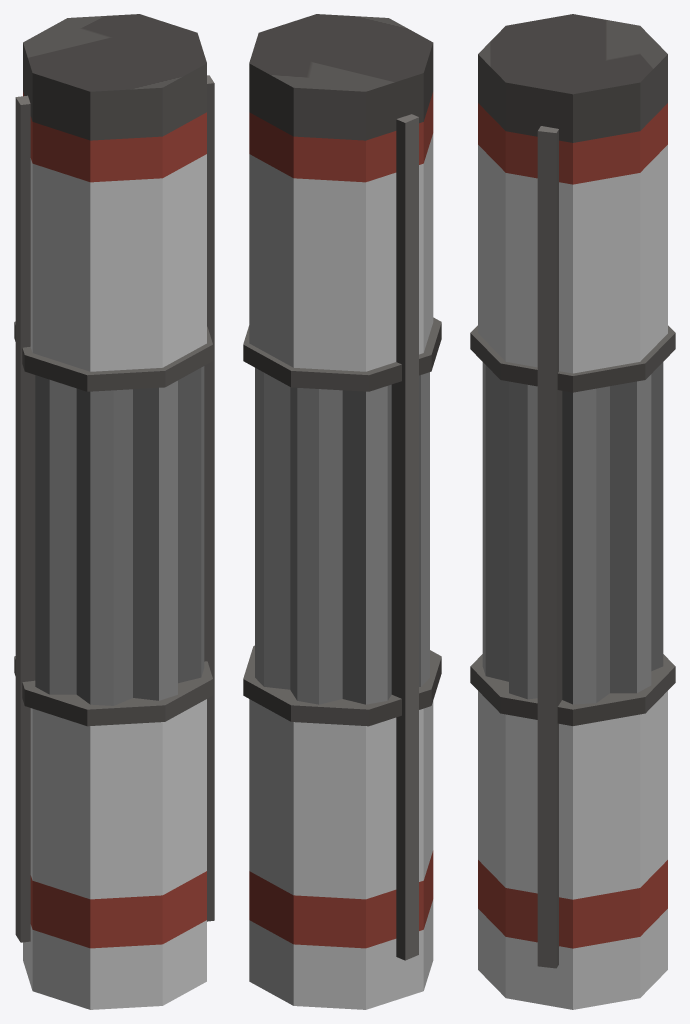
3 views of the same model, side by side, from view 1: azimuth 30°, elevation 25°; view 2: azimuth 150°, elevation 25°; view 3: azimuth 270°, elevation 25° (orthographic).
Visible parts, largest first — view 1: SM_Veh_Rocket_19; view 2: SM_Veh_Rocket_19; view 3: SM_Veh_Rocket_19.
Part boxes in pixels (x1,y1,x2,y2): SM_Veh_Rocket_19: (14,14,214,1009); SM_Veh_Rocket_19: (243,14,441,1009); SM_Veh_Rocket_19: (470,14,675,1009).
Size of the model in its own units: 1.45 by 7.16 by 1.45.
1 material, 1 textured.
